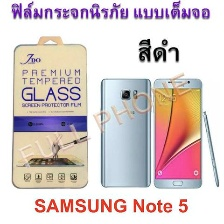book: (8, 39, 90, 192)
phone: (94, 75, 155, 191), (153, 74, 202, 191)
